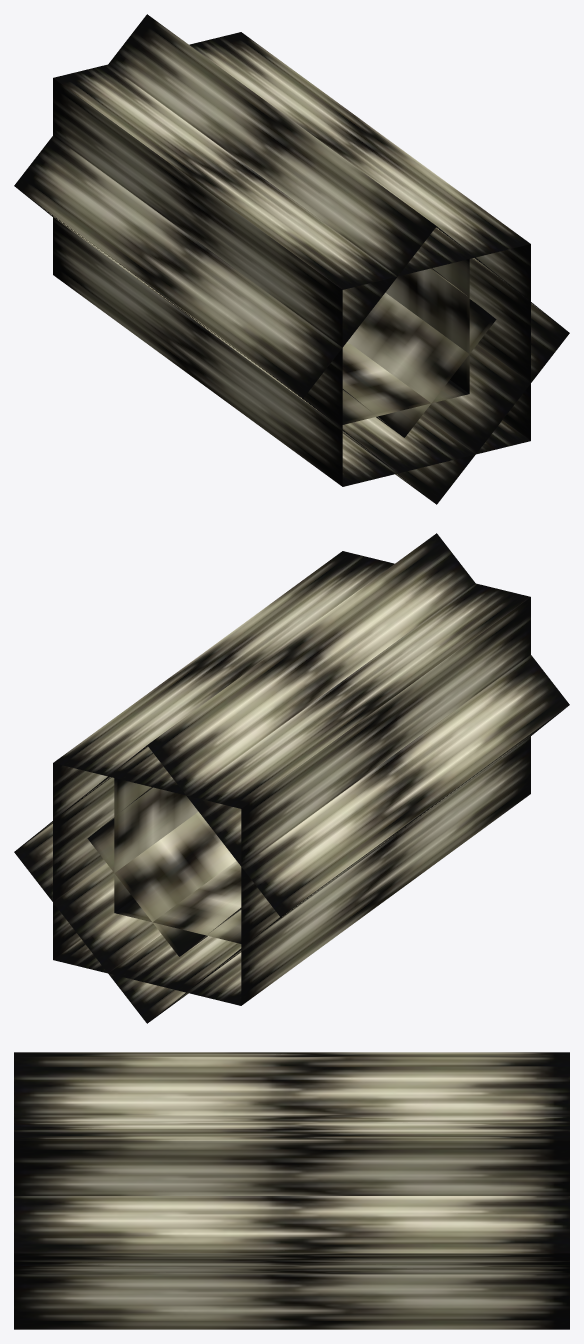
File: wind_tunnel.fbx
3 views of the same model, one above another, from view 1: azimuth 30°, elevation 25°; view 2: azimuth 150°, elevation 25°; view 3: azimuth 270°, elevation 25° (orthographic). The views are drawn at different scales.
Visible parts, largest first — view 1: pPlane5.001, pPlane7, pPlane5, pPlane8.001, pPlane4.001, pPlane6, pPlane8, pPlane2, pPlane4, pPlane7.001; view 2: pPlane5.001, pPlane7, pPlane5, pPlane8.001, pPlane4.001, pPlane6, pPlane8, pPlane2, pPlane4, pPlane7.001; view 3: pPlane6.001, pPlane6, pPlane5, pPlane8.001.
Part boxes in pixels (<box>): pPlane5.001: <box>14,14,436,397</box>; pPlane7: <box>53,78,342,486</box>; pPlane5: <box>53,32,530,289</box>; pPlane8.001: <box>398,305,569,504</box>; pPlane4.001: <box>347,293,496,437</box>; pPlane6: <box>469,244,530,440</box>; pPlane8: <box>342,415,530,486</box>; pPlane2: <box>385,259,469,393</box>; pPlane4: <box>342,342,468,424</box>; pPlane7.001: <box>18,189,433,502</box>; pPlane5.001: <box>147,533,569,916</box>; pPlane7: <box>241,597,530,1005</box>; pPlane5: <box>53,551,530,808</box>; pPlane8.001: <box>14,824,185,1023</box>; pPlane4.001: <box>87,812,236,956</box>; pPlane6: <box>53,763,114,959</box>; pPlane8: <box>53,934,241,1005</box>; pPlane2: <box>114,778,198,912</box>; pPlane4: <box>115,861,241,943</box>; pPlane7.001: <box>150,708,565,1021</box>; pPlane6.001: <box>14,1057,569,1253</box>; pPlane6: <box>14,1140,569,1329</box>; pPlane5: <box>14,1052,569,1140</box>; pPlane8.001: <box>14,1253,569,1274</box>.
Size of the model in its own units: 410 by 410 by 772.
Materials: 1 (1 with a texture image).
